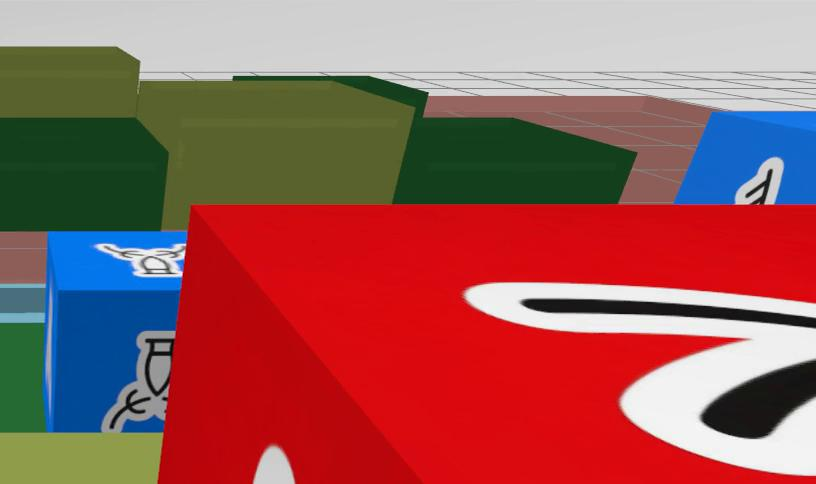KFS_FAKE: (157, 205, 815, 484), (465, 283, 815, 476), (254, 446, 295, 484)
KFS_REAL: (43, 231, 185, 432), (677, 111, 815, 203), (101, 331, 173, 432), (94, 243, 184, 276)
